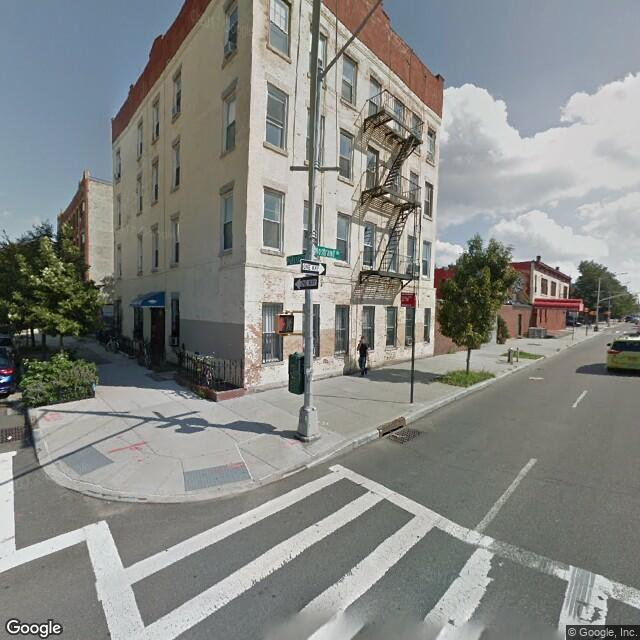litter: (1, 435, 19, 442)
